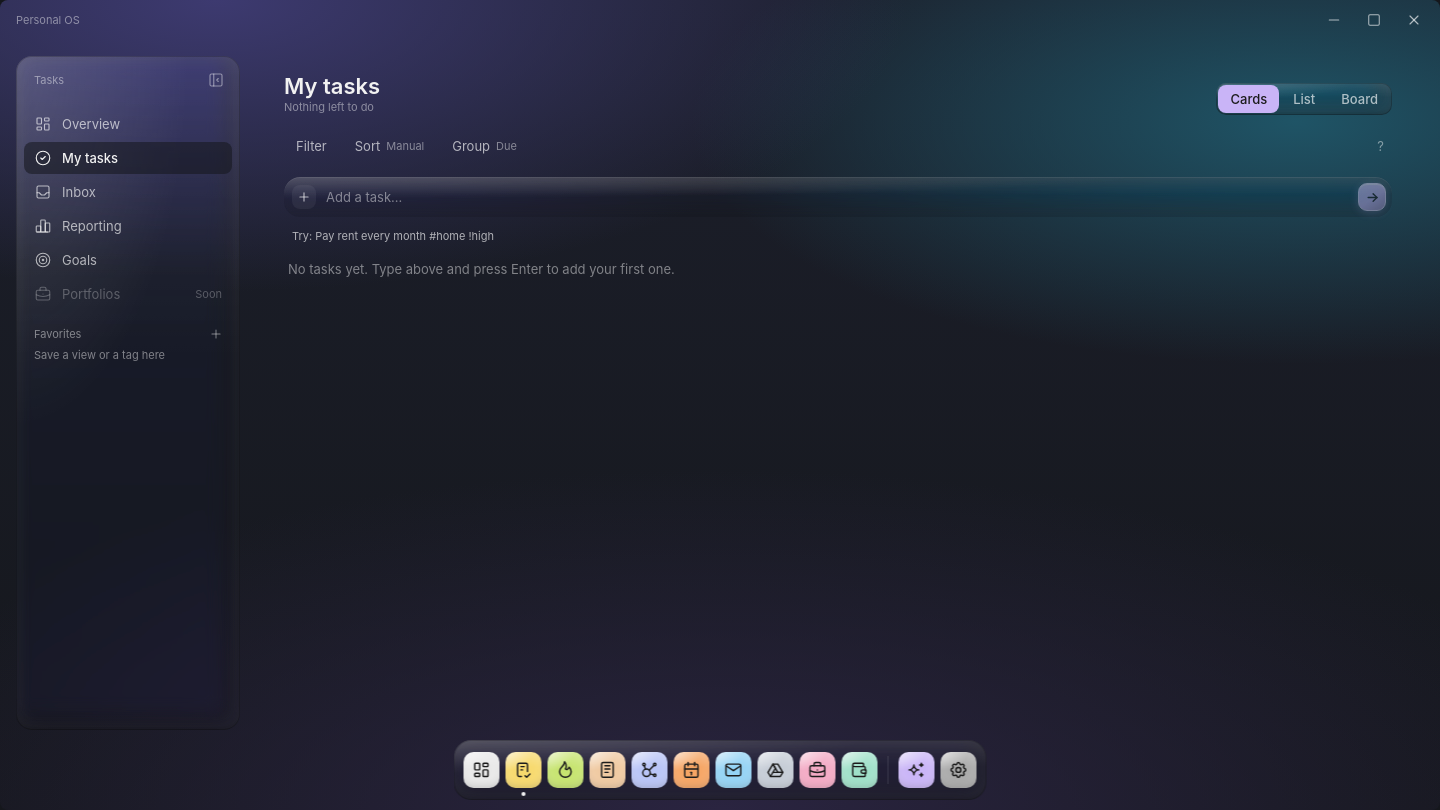
Test: the understood chips › shows a chip with its label and an Ignore button for each kind,
Type "Pay rent all" into the field named "New task".
click(837, 197); type("Pay rent all")  # box [326,177,1348,217]
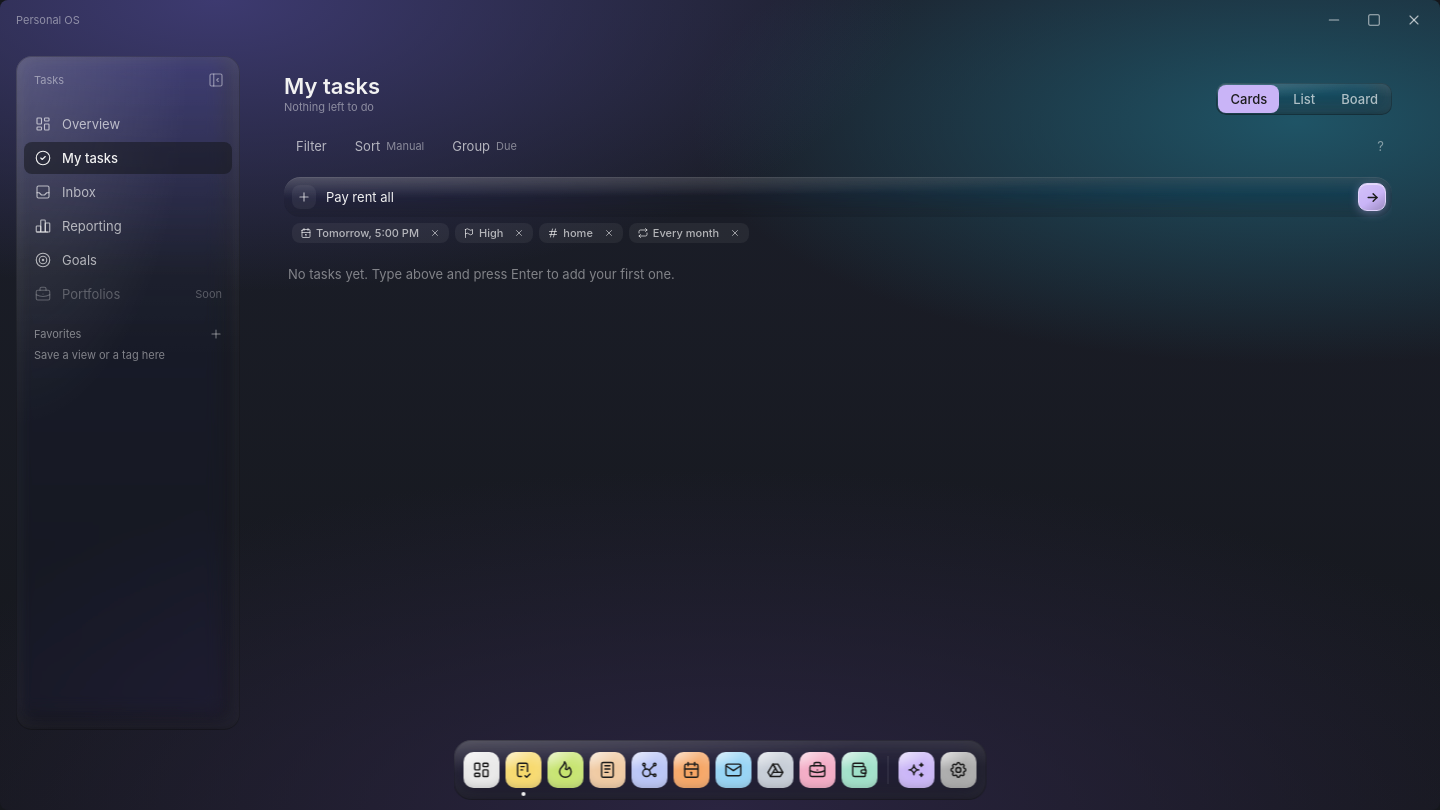
Result: the text "Tomorrow, 5:00 PM" is shown at [316,226,419,240]
Result: the button named "Ignore tomorrow 5pm" is shown at [423,221,447,245]
Result: the button named "Ignore !high" is shown at [507,221,531,245]
